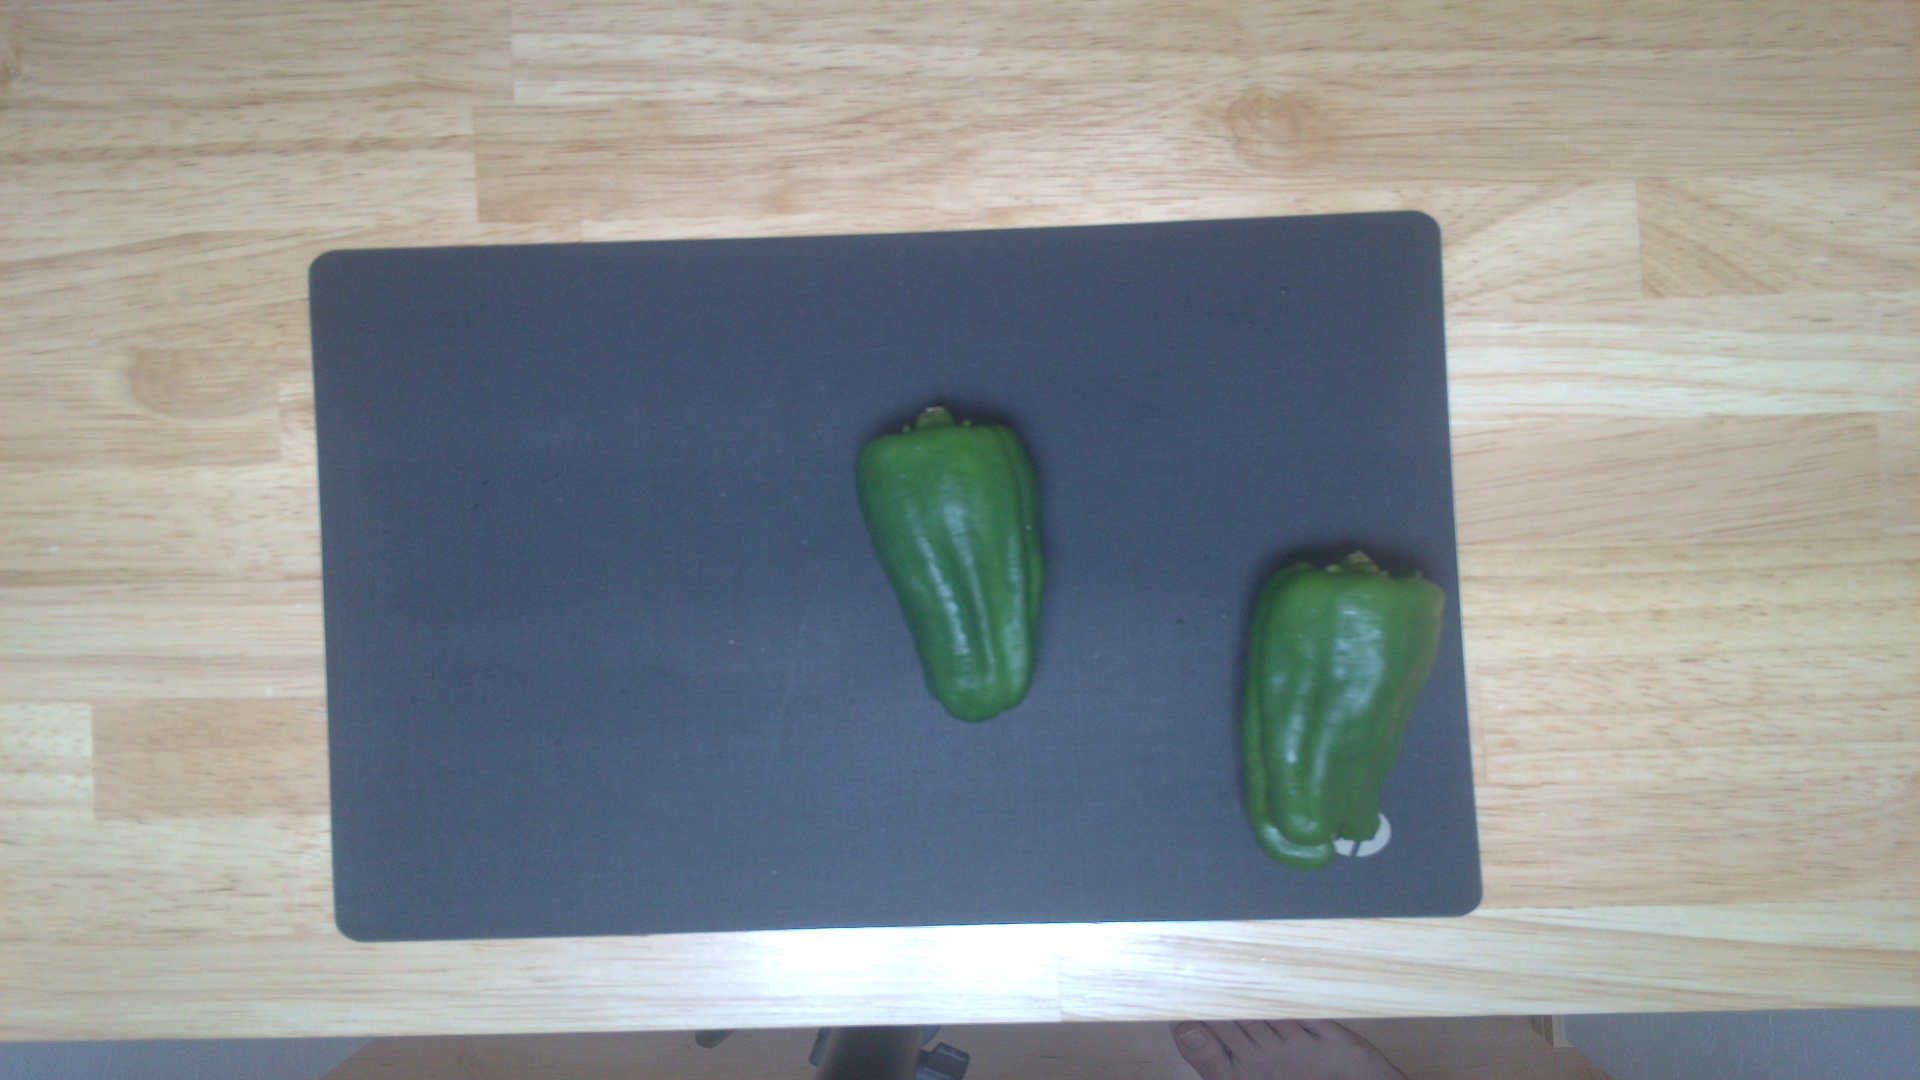Piman: (1236, 543, 1449, 864), (862, 400, 1051, 723)
